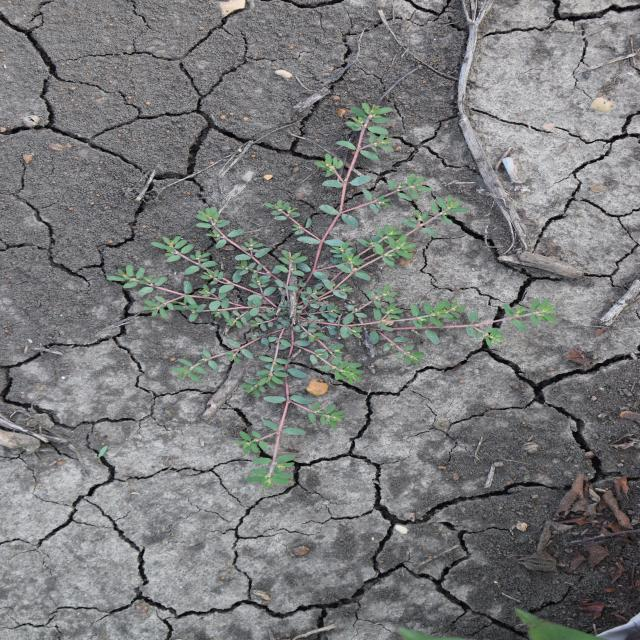SpottedSpurge: (103, 101, 561, 489)
